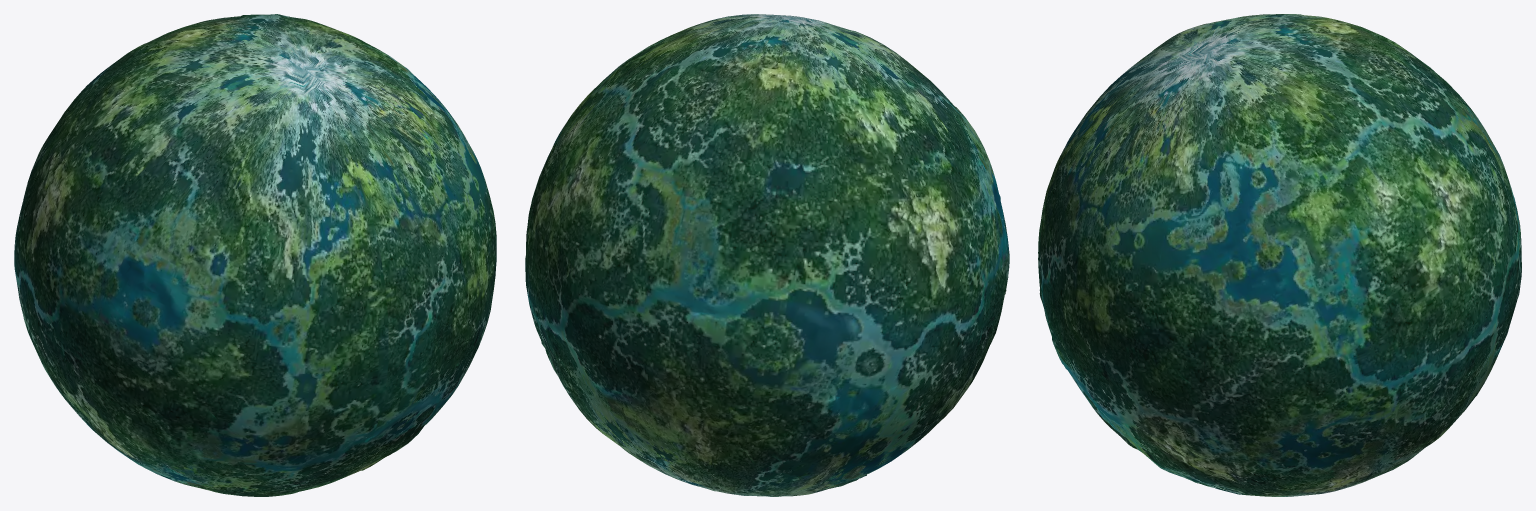
File: planet_8.glb
The picture shows the model from 3 angles, left to right: view 1: azimuth 30°, elevation 25°; view 2: azimuth 150°, elevation 25°; view 3: azimuth 270°, elevation 25°; orthographic projection.
Visible parts, largest first — view 1: Mesh_0.001; view 2: Mesh_0.001; view 3: Mesh_0.001.
Boxes of the visible parts, x1=… form: Mesh_0.001: x1=14, y1=14, x2=496, y2=496; Mesh_0.001: x1=525, y1=14, x2=1009, y2=496; Mesh_0.001: x1=1038, y1=14, x2=1521, y2=496.
Size of the model in its own units: 1.9 by 1.9 by 1.9.
1 material, 1 textured.
